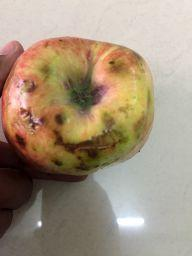apple: (0, 17, 174, 190)
